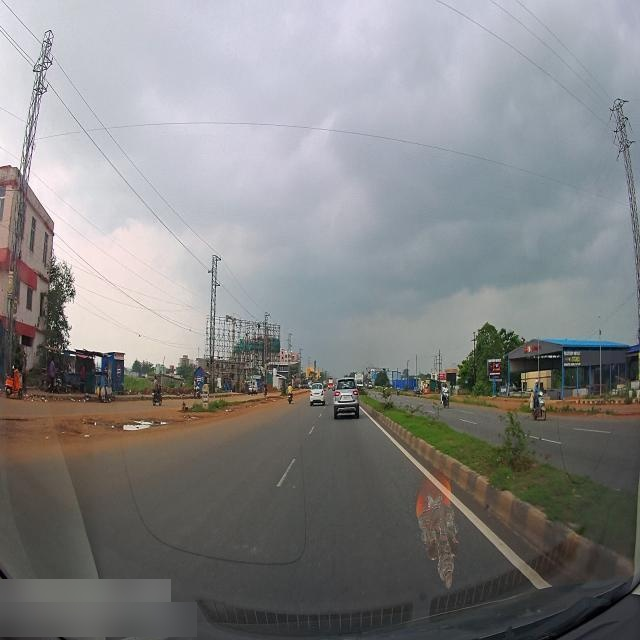pothole: (80, 410, 194, 440)
